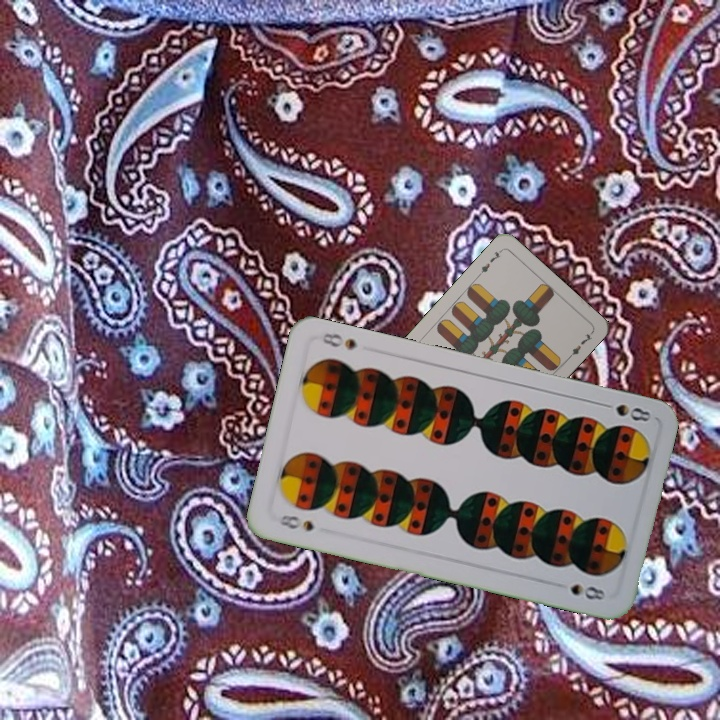E7: (474, 246, 505, 279)
S8: (596, 398, 654, 424), (270, 510, 316, 534)
